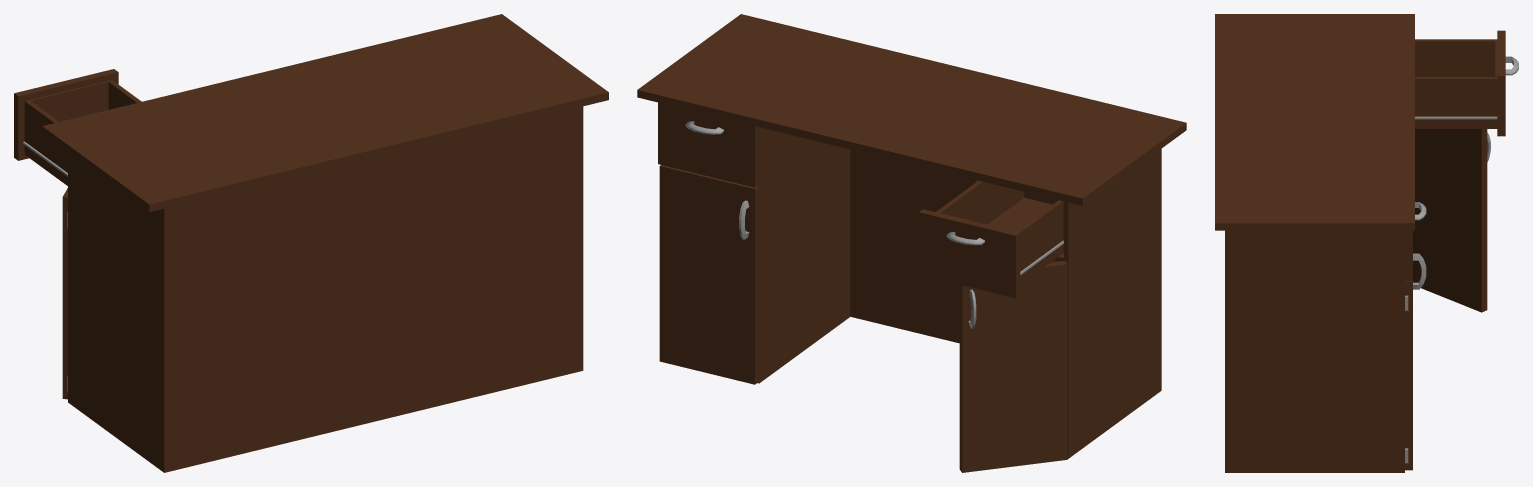
Rendered from BigDesk.glb.
The picture shows the model from 3 angles, left to right: view 1: azimuth 30°, elevation 25°; view 2: azimuth 150°, elevation 25°; view 3: azimuth 270°, elevation 25°; orthographic projection. The views are drawn at different scales.
Visible parts, largest first — view 1: Desk, rightDrawer, rightDoor; view 2: Desk, rightDoor, LeftDoor, rightDrawer, leftDrawer; view 3: Desk, rightDoor, rightDrawer, LeftDoor, leftDrawer.
Part boxes in pixels (<box>): Desk: <box>42,14,608,472</box>; rightDrawer: <box>14,69,141,185</box>; rightDoor: <box>62,188,67,399</box>; Desk: <box>637,14,1186,458</box>; rightDoor: <box>959,261,1067,472</box>; LeftDoor: <box>659,165,759,384</box>; rightDrawer: <box>919,180,1063,298</box>; leftDrawer: <box>658,102,759,187</box>; Desk: <box>1215,14,1414,472</box>; rightDoor: <box>1413,129,1490,312</box>; rightDrawer: <box>1415,30,1518,136</box>; LeftDoor: <box>1405,253,1426,470</box>; leftDrawer: <box>1405,202,1426,281</box>.
Size of the model in its own units: 1.24 by 0.715 by 0.7603.
